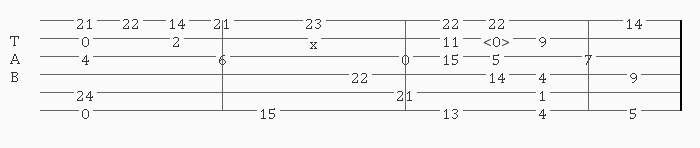0: (81, 31, 94, 45), (81, 103, 94, 117), (401, 49, 414, 63)
1: (538, 85, 551, 99)
11: (442, 31, 464, 45)
13: (442, 103, 464, 117)
14: (168, 13, 190, 27), (488, 67, 510, 81), (625, 13, 647, 27)
15: (259, 103, 281, 118), (442, 49, 464, 64)
2: (172, 31, 185, 45)
21: (76, 13, 98, 27), (213, 13, 235, 27), (396, 85, 418, 99)
22: (122, 13, 144, 27), (351, 67, 373, 81), (442, 13, 464, 27), (488, 13, 510, 27)
23: (305, 13, 327, 27)
24: (76, 85, 98, 99)
4: (81, 49, 94, 63), (538, 67, 551, 81), (538, 103, 551, 117)
5: (492, 49, 505, 64), (629, 103, 642, 118)
6: (218, 49, 231, 63)
7: (584, 49, 597, 63)
9: (538, 31, 551, 45), (629, 67, 642, 81)
harmonic: (483, 31, 514, 45)
x: (310, 33, 322, 44)
